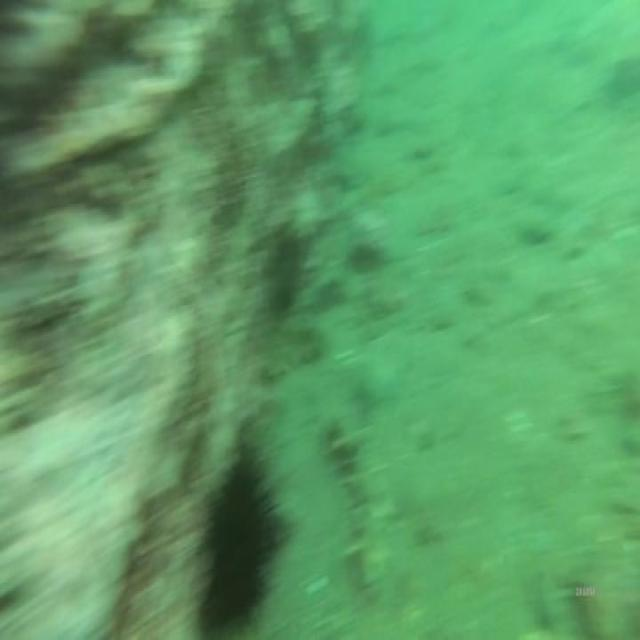echinus: (202, 442, 274, 640)
holothurian: (328, 416, 389, 599)
